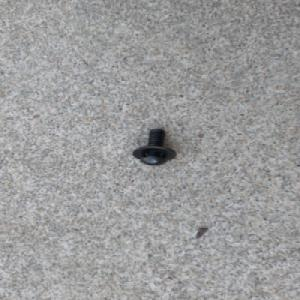BoltWasher: (132, 128, 177, 167)
